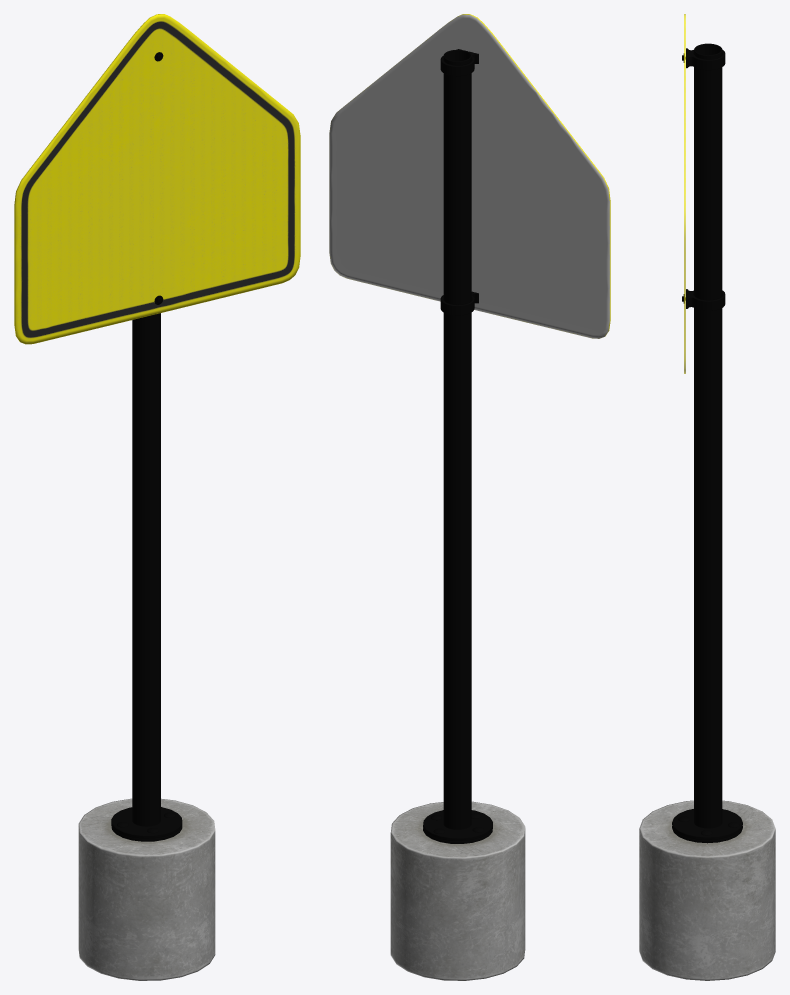
File: Pentagon_Street_Signs_Cylinder_VRay_StemCell.fbx
The picture shows the model from 3 angles, left to right: view 1: azimuth 30°, elevation 25°; view 2: azimuth 150°, elevation 25°; view 3: azimuth 270°, elevation 25°; orthographic projection.
Parts seen in each view (by area): view 1: Street_Signs_Pentagon_SquarePole001, Concrete_Base, Street_Signs_Upside_Down_Triangle_Square_Pole, Metal_Connector; view 2: Street_Signs_Pentagon_SquarePole001, Street_Signs_Upside_Down_Triangle_Square_Pole, Concrete_Base, Metal_Connector, Street_Signs_Pentagon_CylinderPole; view 3: Street_Signs_Upside_Down_Triangle_Square_Pole, Concrete_Base, Metal_Connector, Street_Signs_Pentagon_CylinderPole, Street_Signs_Pentagon_SquarePole001.
Boxes of the visible parts, bbox=[...] form: Street_Signs_Pentagon_SquarePole001: bbox=[14, 14, 300, 344]; Concrete_Base: bbox=[78, 798, 215, 980]; Street_Signs_Upside_Down_Triangle_Square_Pole: bbox=[132, 313, 160, 826]; Metal_Connector: bbox=[111, 807, 182, 841]; Street_Signs_Pentagon_SquarePole001: bbox=[329, 14, 610, 338]; Street_Signs_Upside_Down_Triangle_Square_Pole: bbox=[443, 49, 471, 829]; Concrete_Base: bbox=[390, 801, 525, 980]; Metal_Connector: bbox=[423, 810, 492, 843]; Street_Signs_Pentagon_CylinderPole: bbox=[440, 49, 478, 315]; Street_Signs_Upside_Down_Triangle_Square_Pole: bbox=[694, 43, 722, 828]; Concrete_Base: bbox=[639, 800, 775, 980]; Metal_Connector: bbox=[672, 809, 742, 843]; Street_Signs_Pentagon_CylinderPole: bbox=[682, 48, 725, 310]; Street_Signs_Pentagon_SquarePole001: bbox=[684, 14, 685, 373].
Size of the model in its own units: 91.52 by 290 by 38.21.
4 materials, 4 textured.
